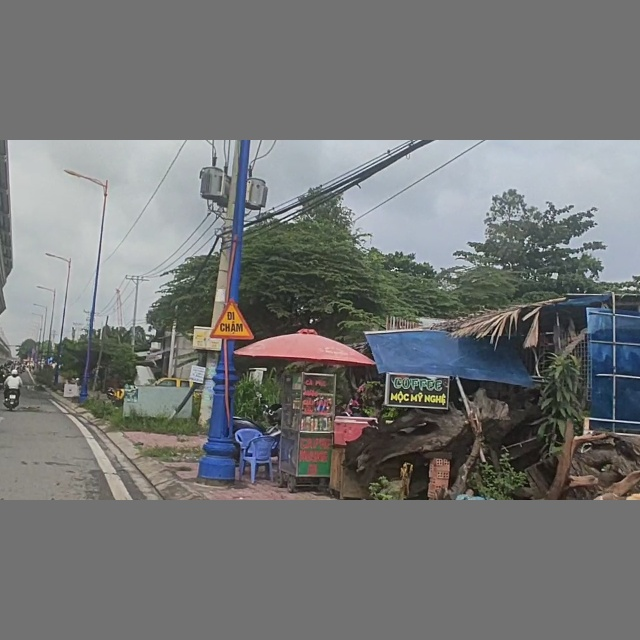W.245a: (210, 299, 255, 341)
